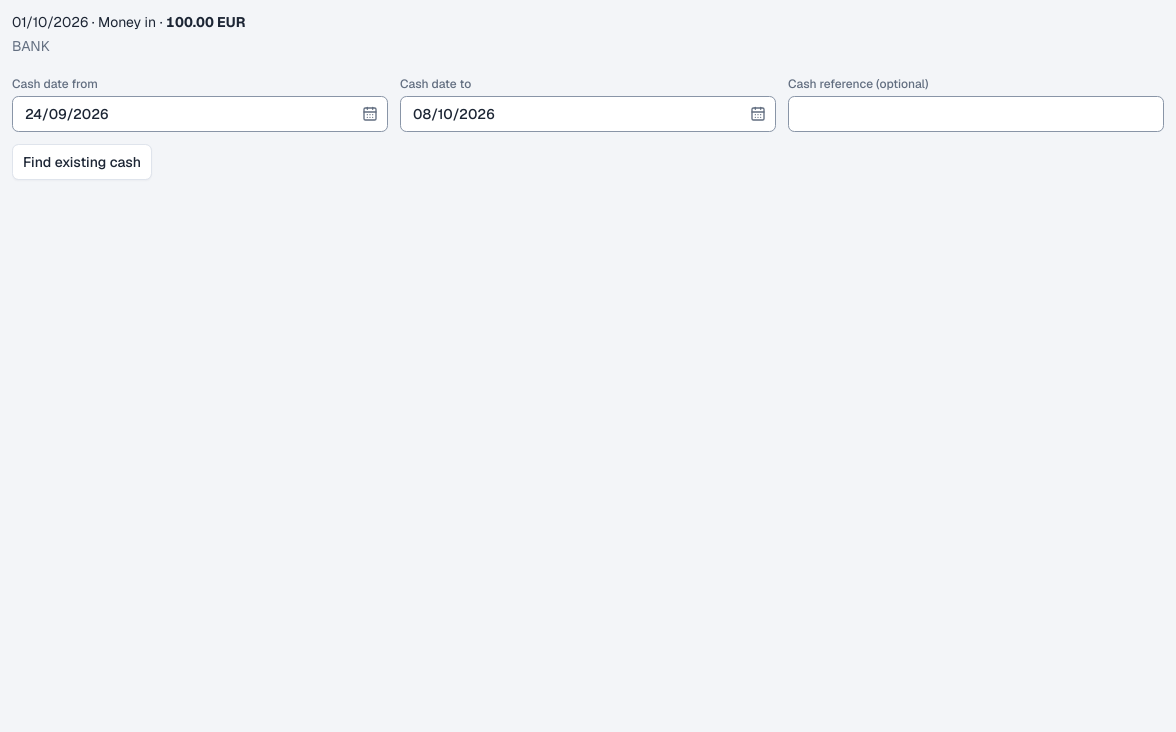
guards duplicate confirmation submissions while pending
Click the button "Find existing cash": (82, 162) [12,144,152,180]
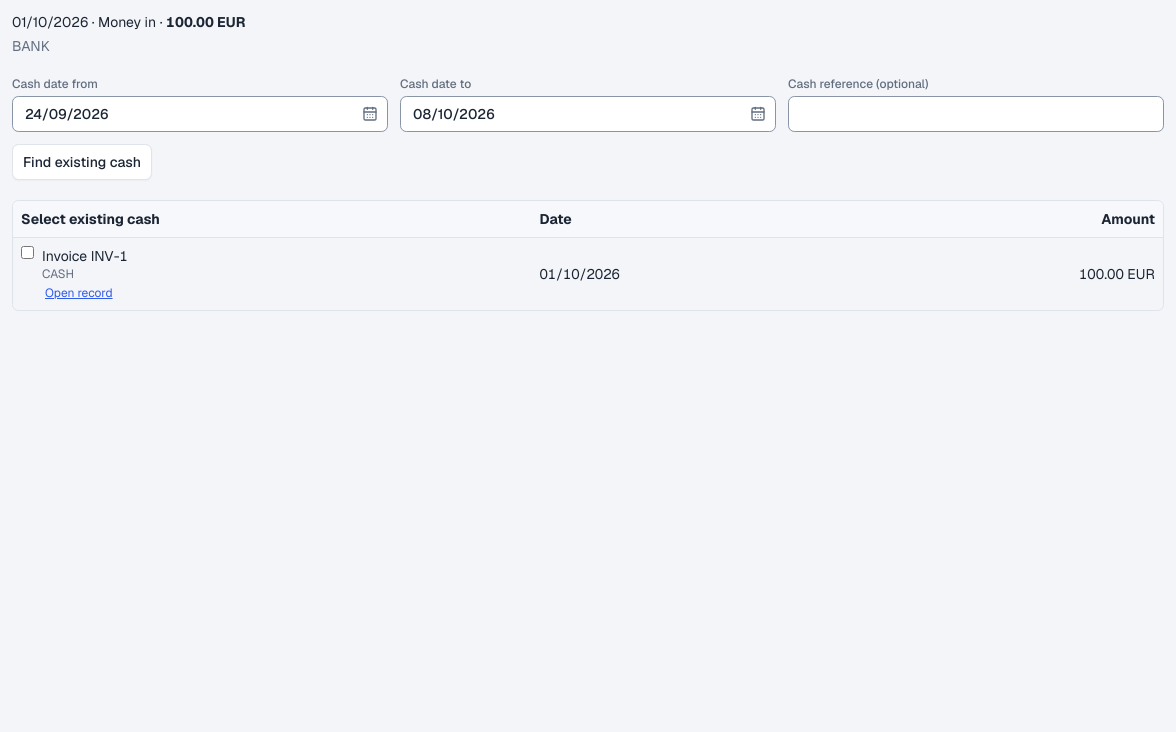
Click the checkbox labelled "Invoice INV-1 CASH": (28, 252) [21,246,34,259]
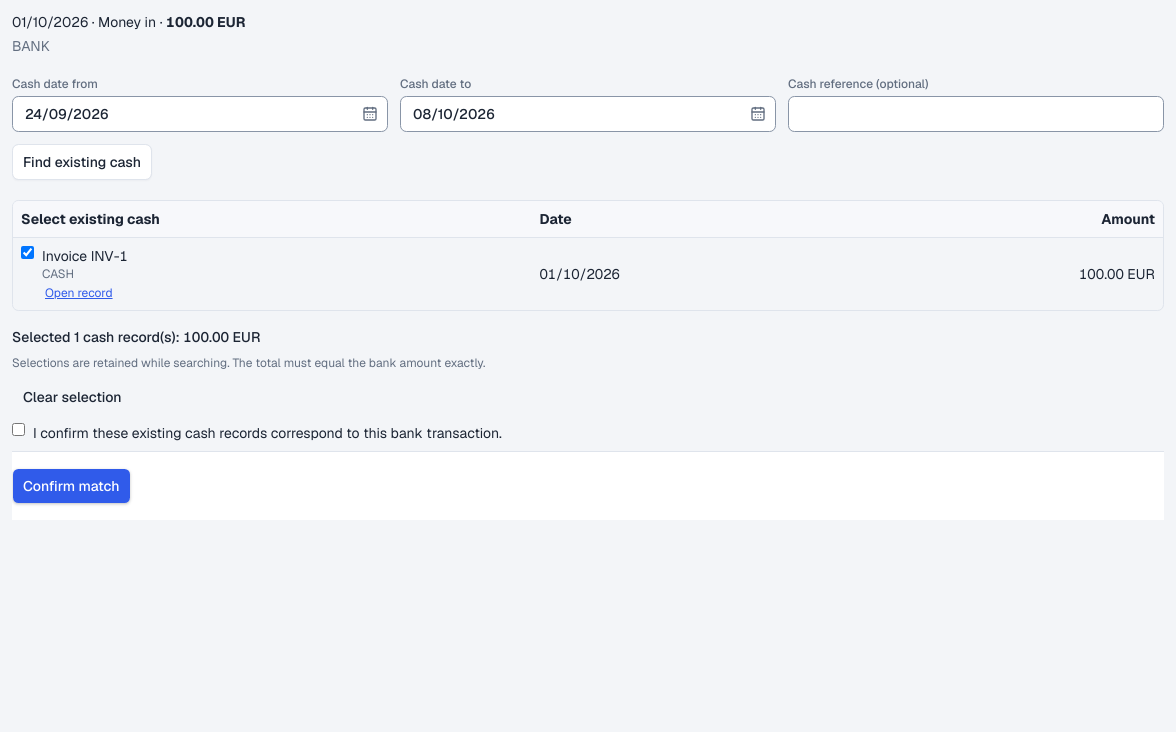
Click the 2nd checkbox: (18, 430) [12,423,25,436]
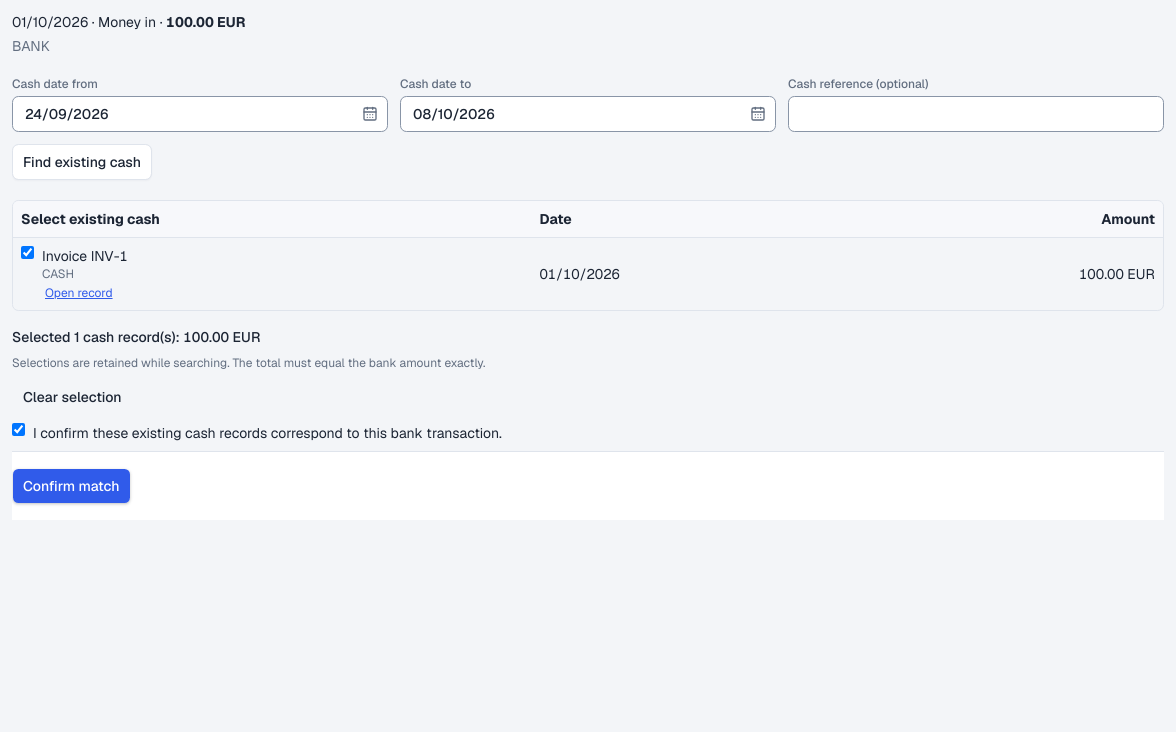
Submit the form that starts with "Select existing cash", box [12,200,1164,520]
Submit the form that starts with "Select existing cash", box [12,200,1164,520]
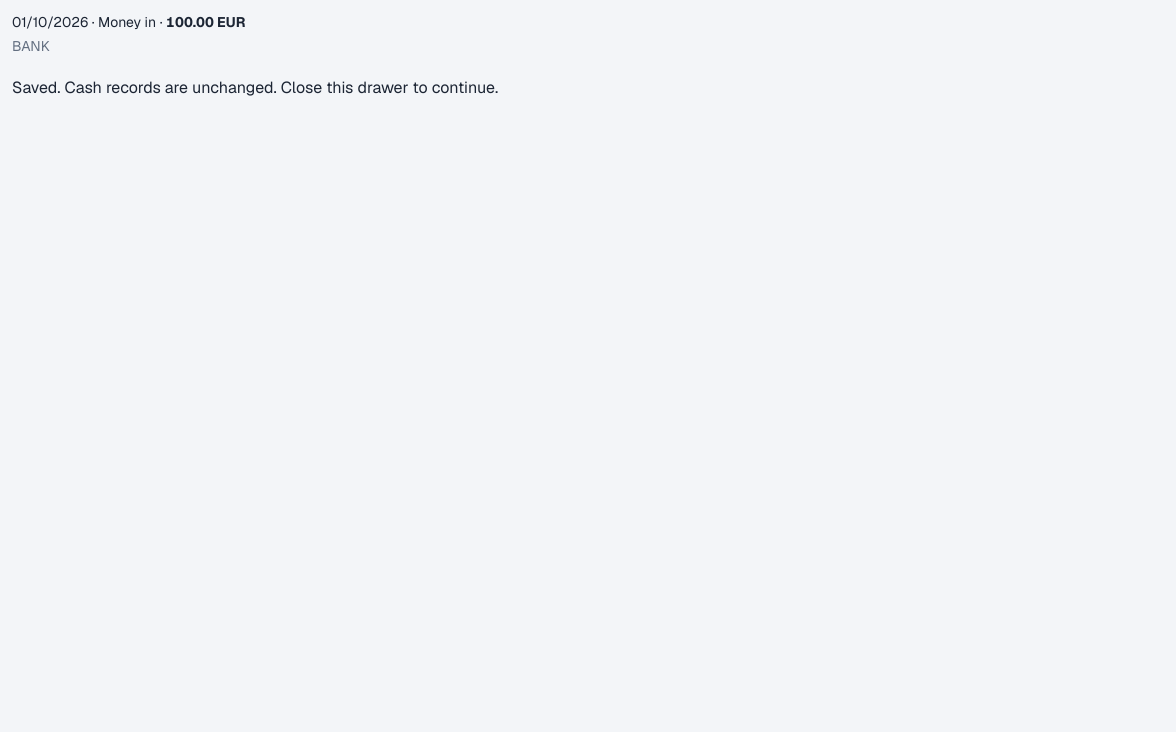
Now the text "Cash records are unchanged" is shown, box [12,77,498,98]
